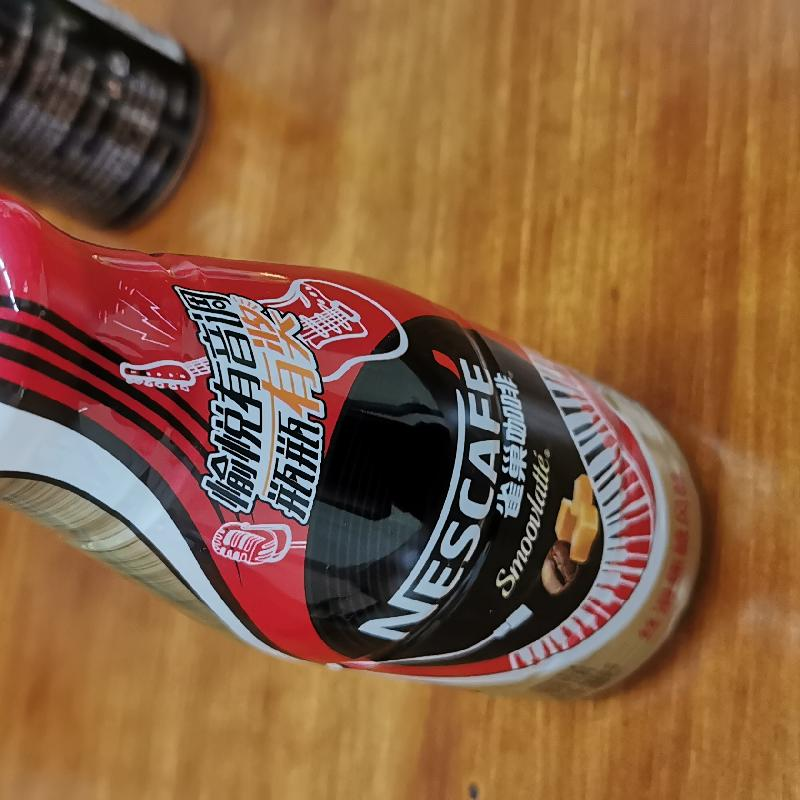bottles: (4, 187, 706, 712)
